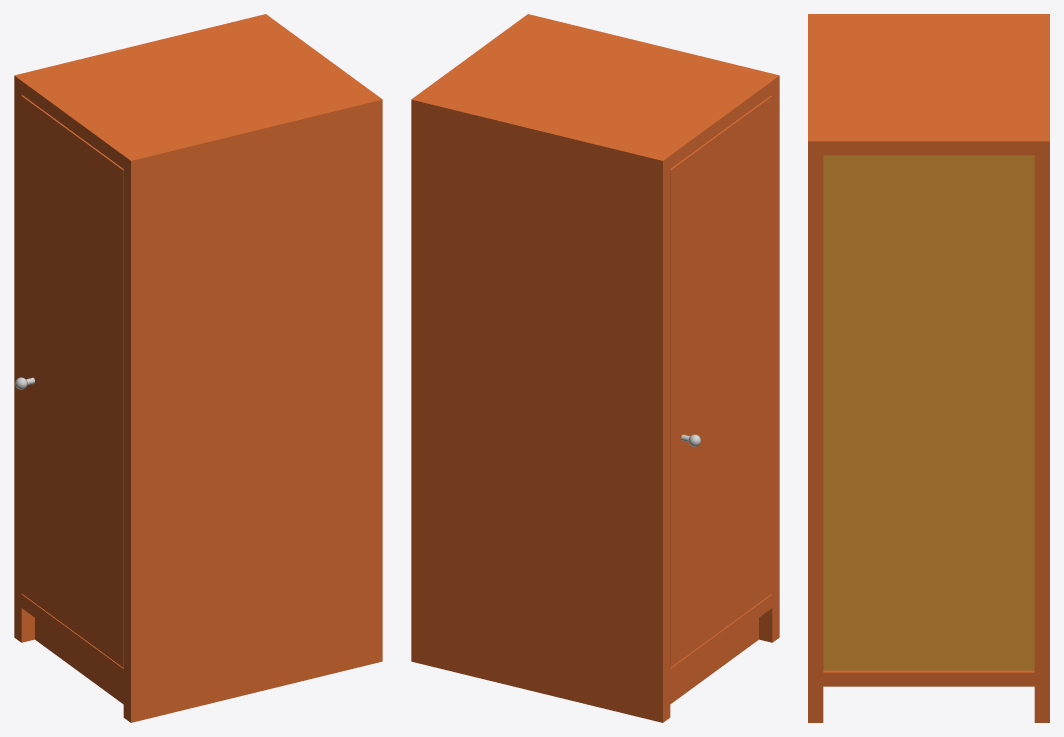
The model's file is Wardrobe_Single_R_01.fbx.
3 views of the same model, side by side, from view 1: azimuth 30°, elevation 25°; view 2: azimuth 150°, elevation 25°; view 3: azimuth 270°, elevation 25° (orthographic). The views are drawn at different scales.
Parts seen in each view (by area): view 1: Cube, Cube.003; view 2: Cube, Cube.003; view 3: Cube.002, Cube.
Part boxes in pixels (<box>): Cube: <box>14,14,382,722</box>; Cube.003: <box>21,95,123,667</box>; Cube: <box>411,14,779,722</box>; Cube.003: <box>670,95,772,667</box>; Cube.002: <box>823,155,1034,670</box>; Cube: <box>808,14,1049,722</box>.
Size of the model in its own units: 107 by 213 by 80.42.
